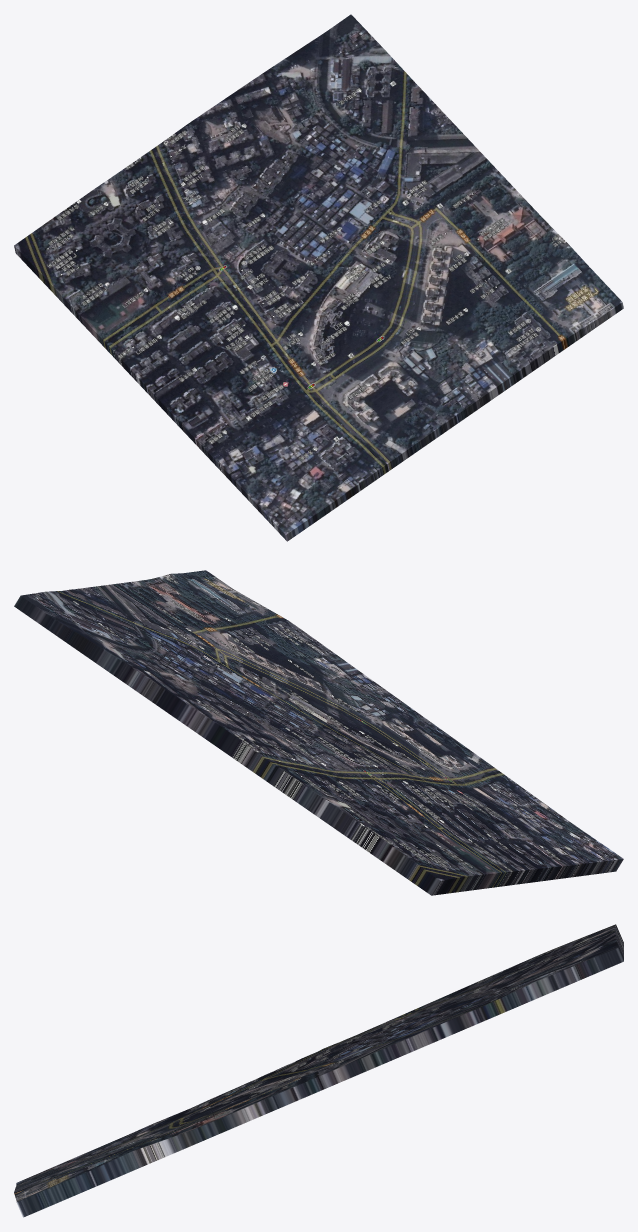
3 views of the same model, one above another, from view 1: azimuth 30°, elevation 25°; view 2: azimuth 150°, elevation 25°; view 3: azimuth 270°, elevation 25° (orthographic). The views are drawn at different scales.
Parts seen in each view (by area): view 1: 0_15_4; view 2: 0_15_4; view 3: 0_15_4.
Boxes of the visible parts, x1,y1,x2,y2 form: 0_15_4: (14, 14, 623, 541); 0_15_4: (14, 570, 623, 895); 0_15_4: (14, 924, 623, 1217).
Size of the model in its own units: 599 by 439 by 550.
Materials: 1 (1 with a texture image).
